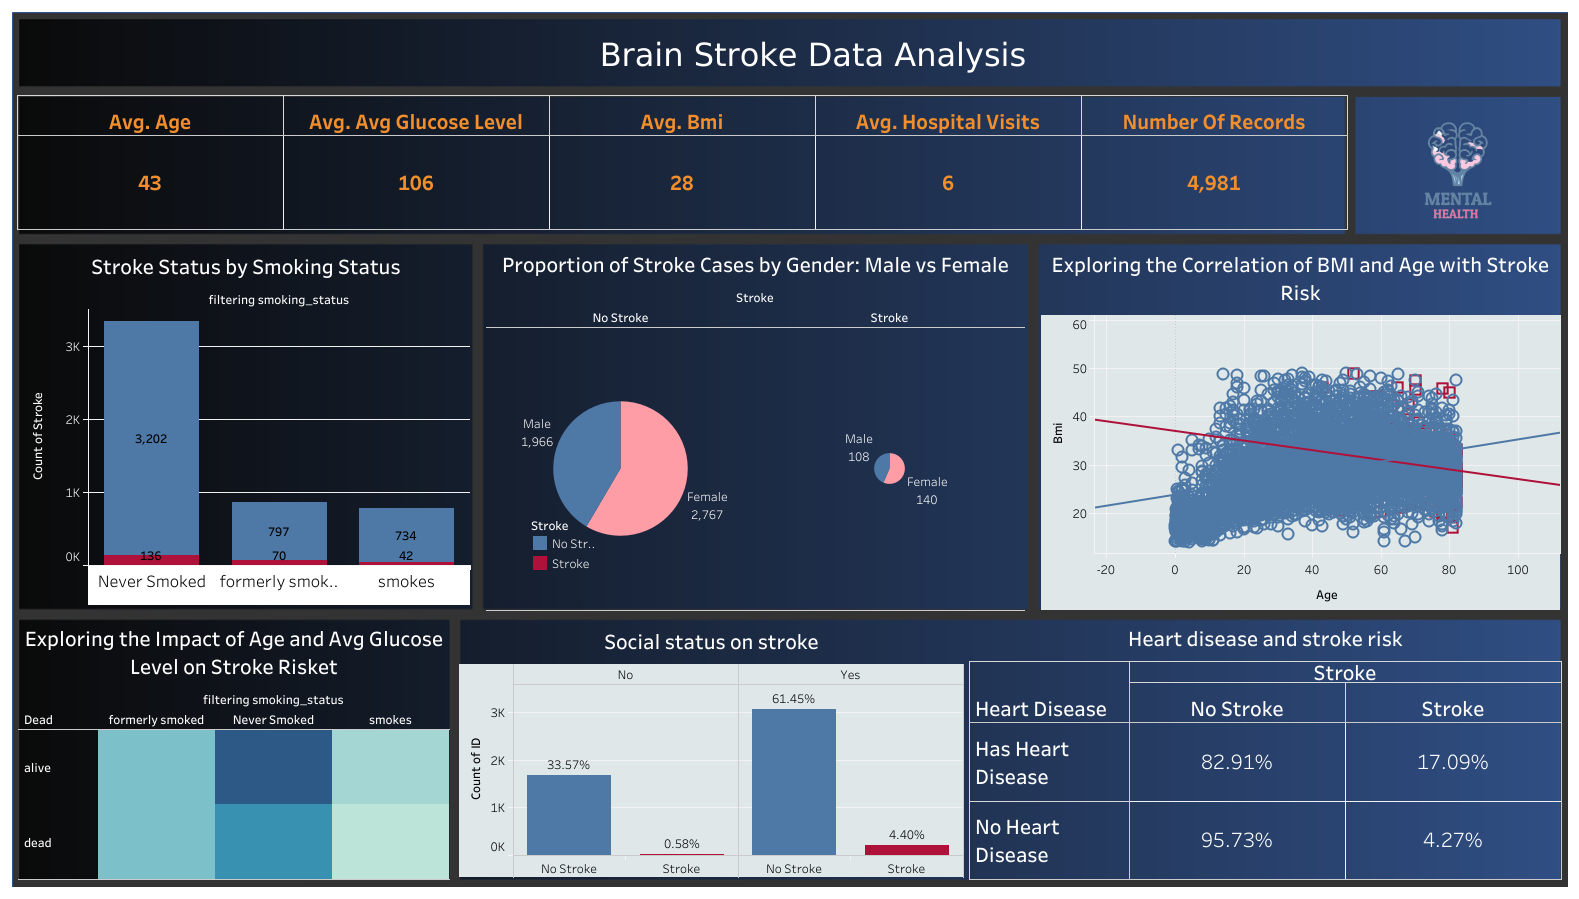

What the dashboard file says about the page in this screenshot:
{"tool":"tableau","page":{"name":"Dashboard 4","canvas":[1580,900],"ordinal":1},"visuals":[{"type":"image","param":"Image/HR background.png","box":[8,8,1564,884]},{"type":"text","box":[506,31,614,48]},{"type":"worksheet","title":"kpis","mark":"Automatic","box":[17,95,1331,135]},{"type":"image","param":"Image/rb_2149067638.png","box":[1357,99,204,136]},{"type":"worksheet","title":"Proportion of Stroke Cases by Gender: Male vs Female","mark":"Pie","cols":["stroke"],"box":[486,244,539,367]},{"type":"worksheet","title":"Exploring the Correlation of BMI and Age with Stroke Risk","mark":"Automatic","rows":["bmi"],"cols":["age"],"box":[1041,244,519,366]},{"type":"worksheet","title":"Stroke Status by Smoking Status","mark":"Automatic","rows":["stroke"],"cols":["Calculation_336925613981921284"],"box":[21,246,450,360]},{"type":"legend","title":"Stroke Status by Smoking Status","param":"[federated.1lm3neh18zz79s180c616002mknj].[none:stroke:nk]","box":[530,514,70,68]},{"type":"worksheet","title":"Exploring the Impact of smoking_status and dead on Stroke Risket ","mark":"Automatic","rows":["dead"],"cols":["Calculation_336925613981921284"],"box":[18,618,432,262]},{"type":"worksheet","title":"Heart disease and stroke risk","mark":"Automatic","rows":["heart_disease"],"cols":["stroke"],"box":[969,618,593,262]},{"type":"worksheet","title":"Social status on stroke","mark":"Automatic","rows":["ID"],"cols":["ever_married","stroke"],"box":[459,621,505,257]}]}

Visuals, with their boxes in screenshot pixels (x1, y1, x2, y2), scaled from the page's 1580x900 canvas onto the 1579x899 screenshot:
image: locate(8, 8, 1571, 891)
text: locate(506, 31, 1119, 79)
"kpis" worksheet: locate(17, 95, 1347, 230)
image: locate(1356, 99, 1560, 235)
"Proportion of Stroke Cases by Gender: Male vs Female" worksheet (Pie marks): locate(486, 244, 1024, 610)
"Exploring the Correlation of BMI and Age with Stroke Risk" worksheet: locate(1040, 244, 1559, 609)
"Stroke Status by Smoking Status" worksheet: locate(21, 246, 471, 605)
"Stroke Status by Smoking Status" legend: locate(530, 513, 600, 581)
"Exploring the Impact of smoking_status and dead on Stroke Risket " worksheet: locate(18, 617, 450, 879)
"Heart disease and stroke risk" worksheet: locate(968, 617, 1561, 879)
"Social status on stroke" worksheet: locate(459, 620, 963, 877)
